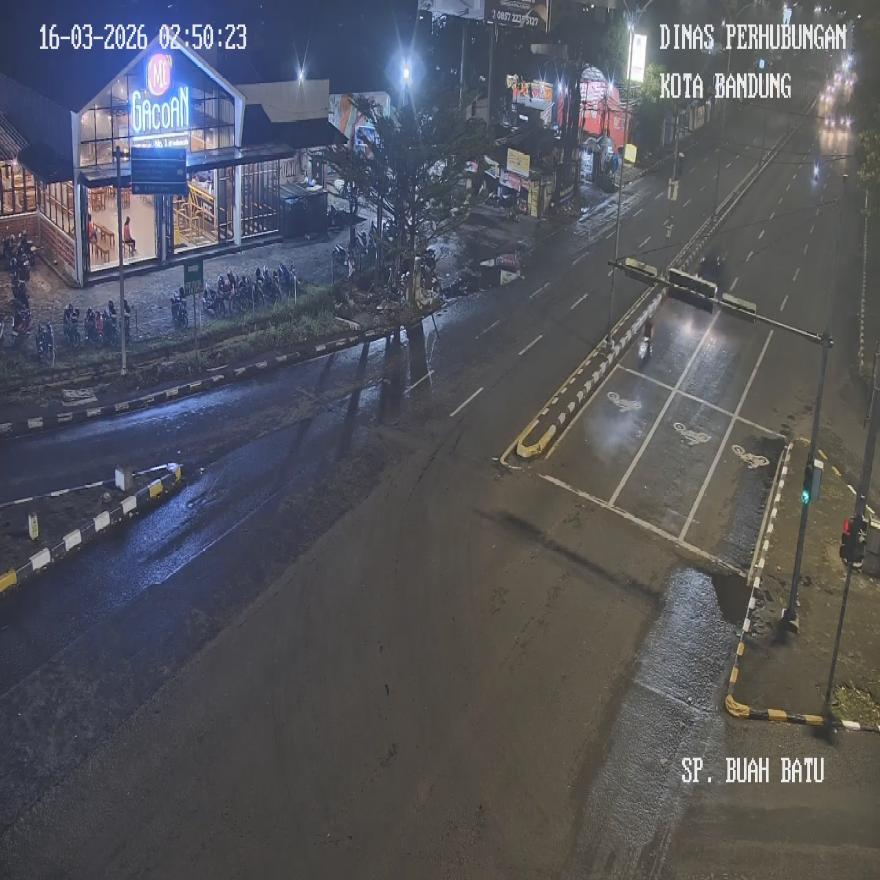Truk: (10, 303, 32, 350), (83, 306, 105, 347), (62, 303, 82, 347), (36, 321, 54, 366), (101, 301, 118, 347), (259, 266, 279, 304), (232, 275, 252, 313), (276, 262, 297, 298), (170, 290, 188, 328), (203, 281, 222, 317), (218, 274, 234, 316), (122, 300, 132, 342)
